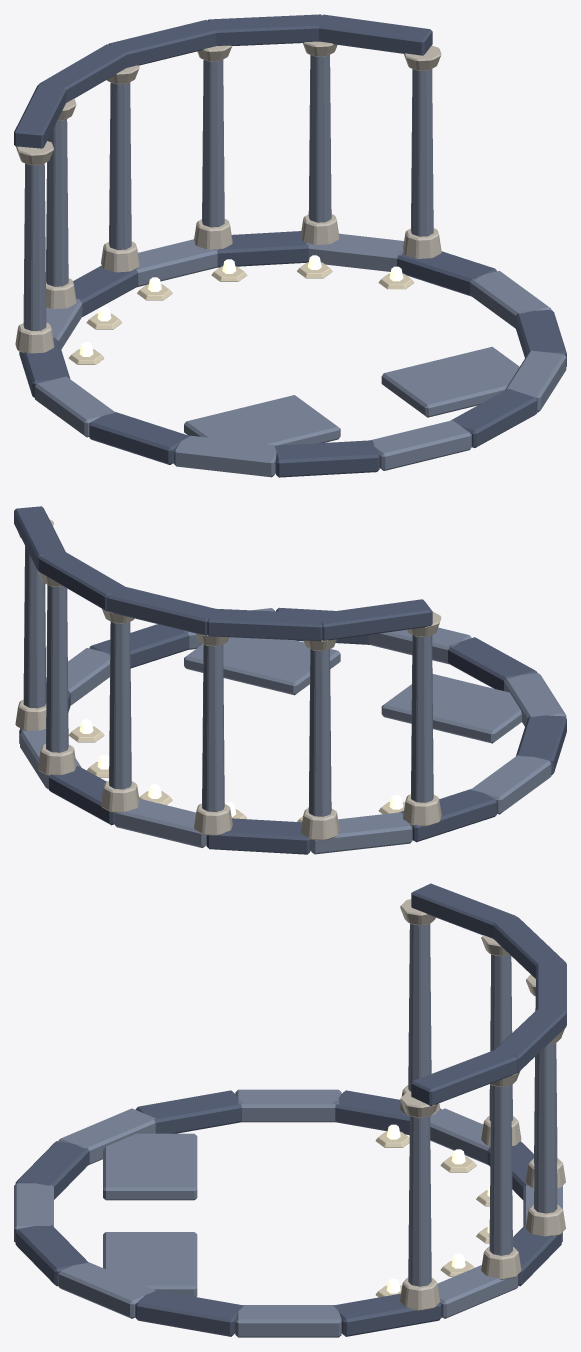
File: mirror_pavilion.glb
3 views of the same model, one above another, from view 1: azimuth 30°, elevation 25°; view 2: azimuth 150°, elevation 25°; view 3: azimuth 270°, elevation 25° (orthographic).
Visible parts, largest first — view 1: MirrorPavilionRoot_Merged; view 2: MirrorPavilionRoot_Merged; view 3: MirrorPavilionRoot_Merged.
Boxes of the visible parts, x1=… form: MirrorPavilionRoot_Merged: x1=14, y1=14, x2=566, y2=477; MirrorPavilionRoot_Merged: x1=14, y1=506, x2=566, y2=854; MirrorPavilionRoot_Merged: x1=14, y1=883, x2=566, y2=1337.
Size of the model in its own units: 9.92 by 4.71 by 9.99.
